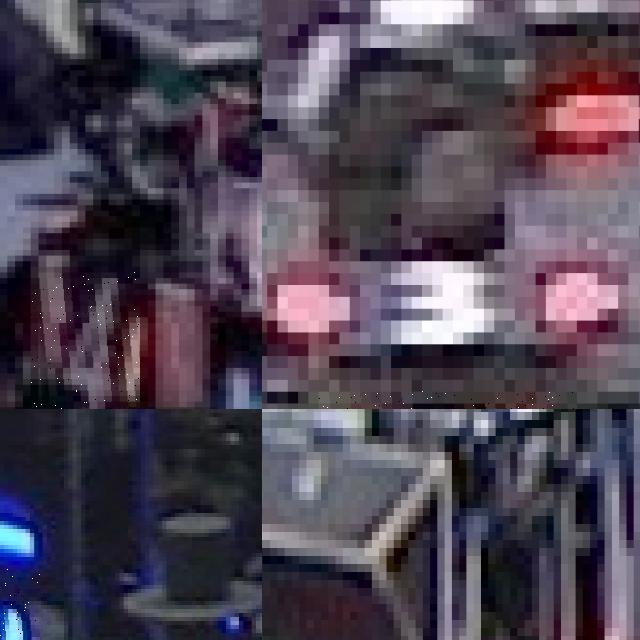B2: (187, 539, 262, 639), (0, 569, 40, 640)
R4: (30, 272, 140, 409)
